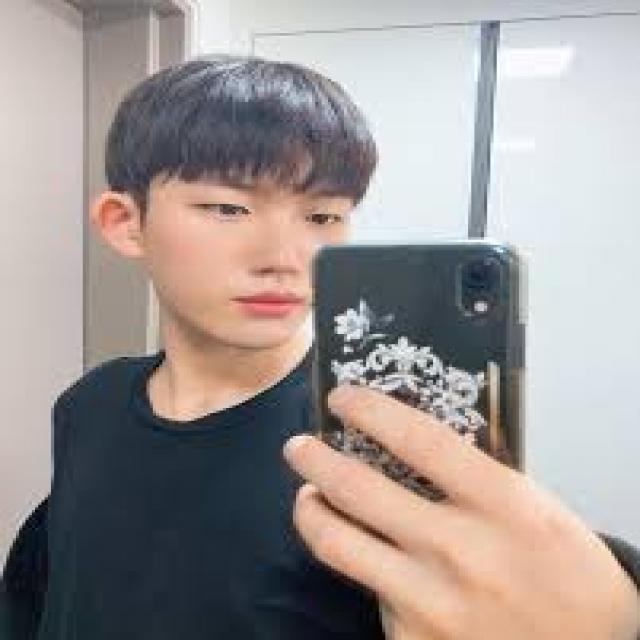Phone: (309, 239, 527, 502)
